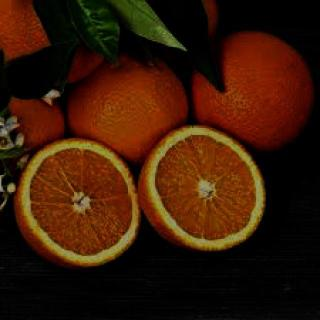orange: (128, 94, 273, 279), (2, 120, 150, 288), (183, 23, 320, 171)
